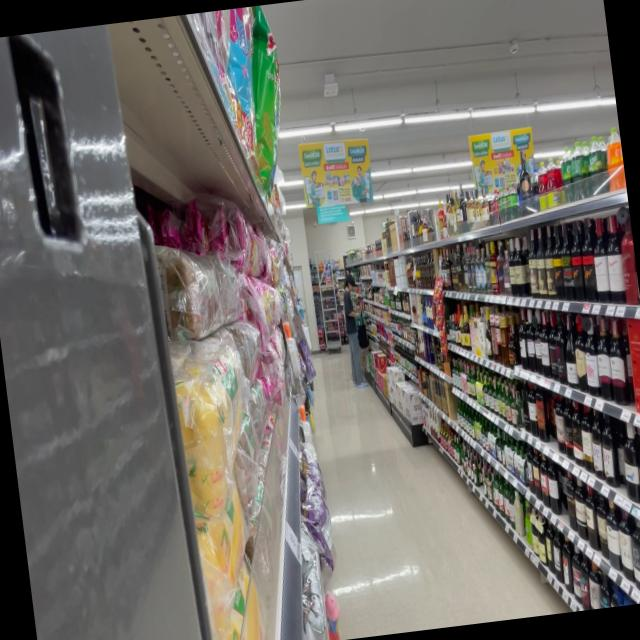shoplifting: (336, 268, 374, 391)
